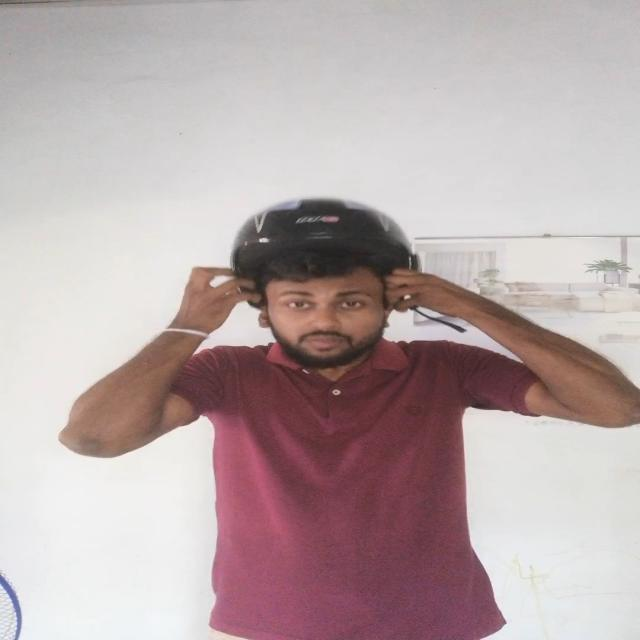Helmet_Wearer: (203, 204, 462, 373)
